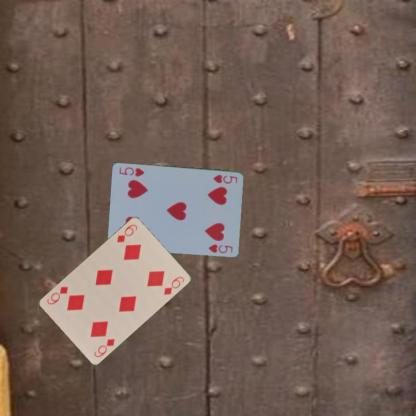5h: (211, 171, 239, 185)
6d: (114, 221, 139, 244), (91, 336, 116, 358)
